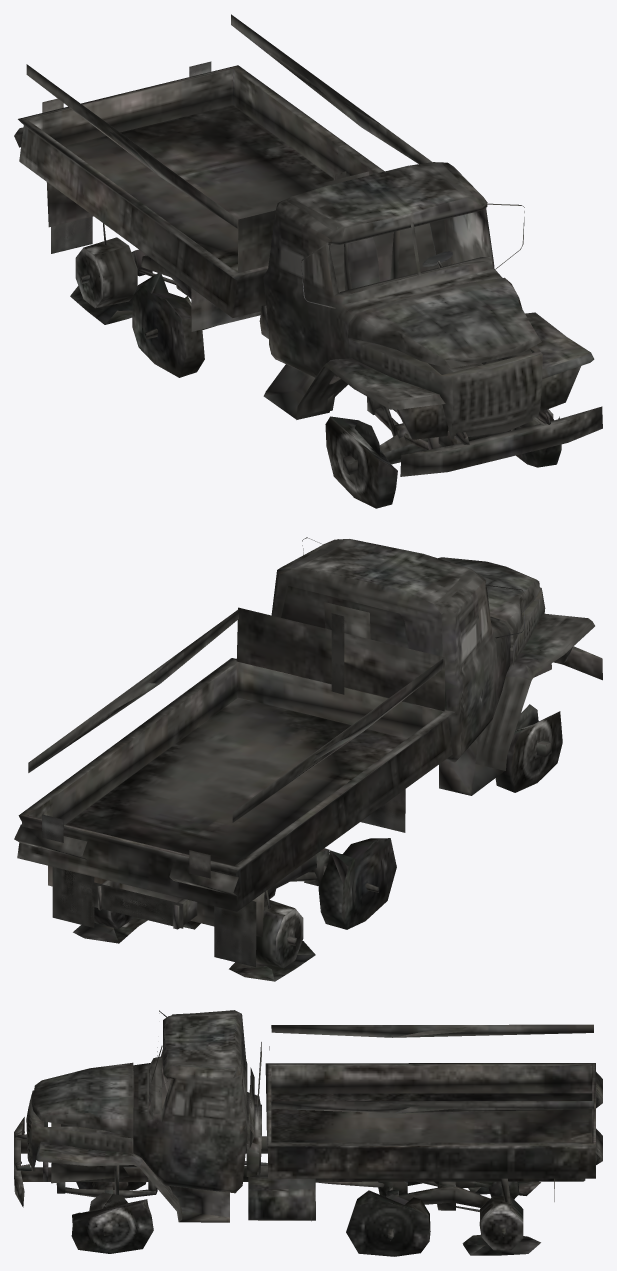
File: wreck_truck.glb
The picture shows the model from 3 angles, top to bottom: view 1: azimuth 30°, elevation 25°; view 2: azimuth 150°, elevation 25°; view 3: azimuth 270°, elevation 25°; orthographic projection. The views are drawn at different scales.
Parts seen in each view (by area): view 1: hull; view 2: hull; view 3: hull.
Boxes of the visible parts, x1,y1,x2,y2 form: hull: (14,14,602,508); hull: (14,537,602,981); hull: (14,1010,602,1256).
Bounding box in the file's own units: 2.46 × 2.4 × 7.
Materials: 1 (1 with a texture image).
